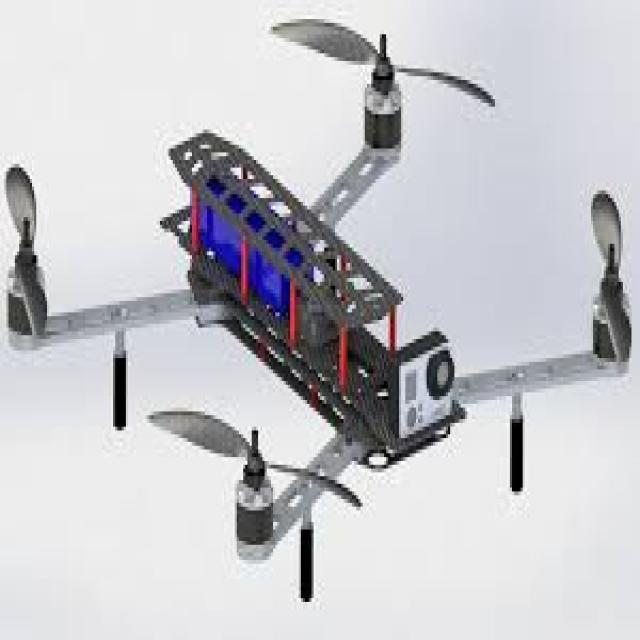drone: (5, 17, 638, 615)
